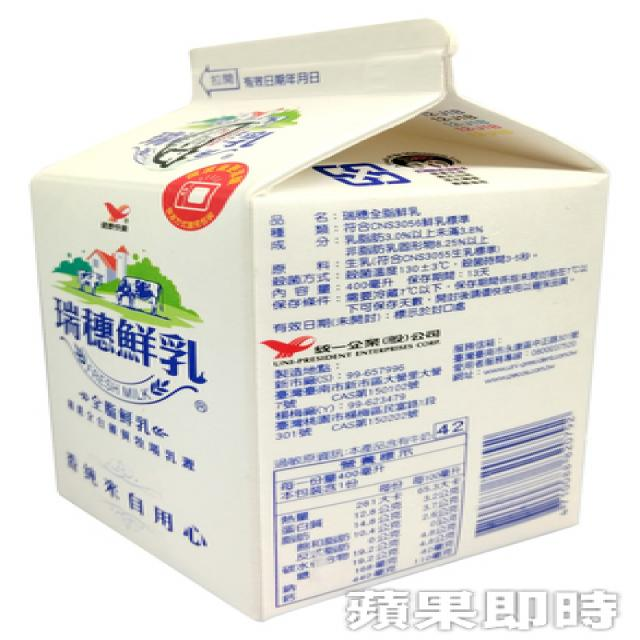non_white_jug: (33, 27, 600, 594)
